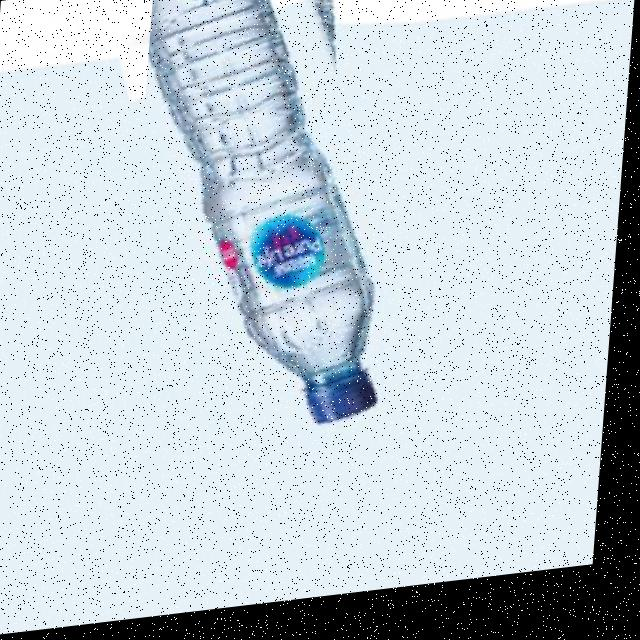plasticbottle: (122, 0, 468, 513)
plasticbottlecap: (192, 366, 374, 487)
